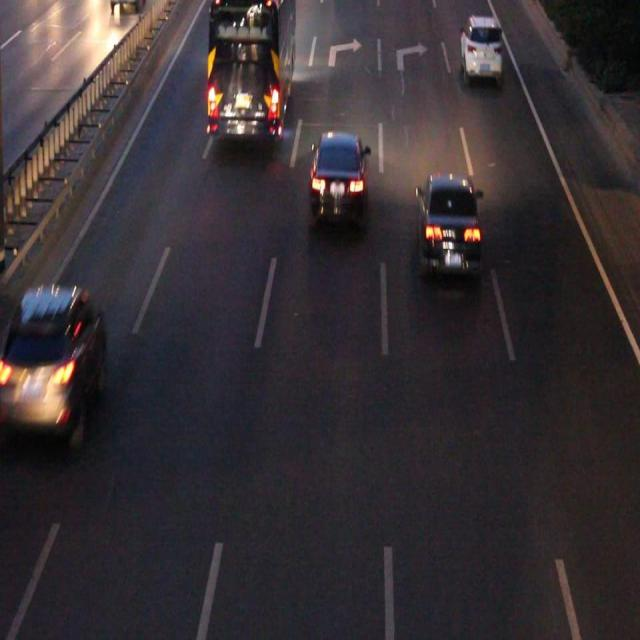car: (1, 287, 102, 435), (419, 176, 480, 276), (310, 131, 365, 220), (459, 16, 499, 76)
van: (209, 1, 294, 134)
